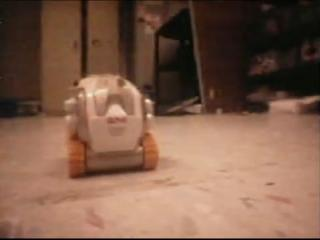cozmo: (62, 73, 160, 178)
